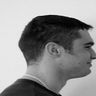ear: (41, 38, 69, 63)
